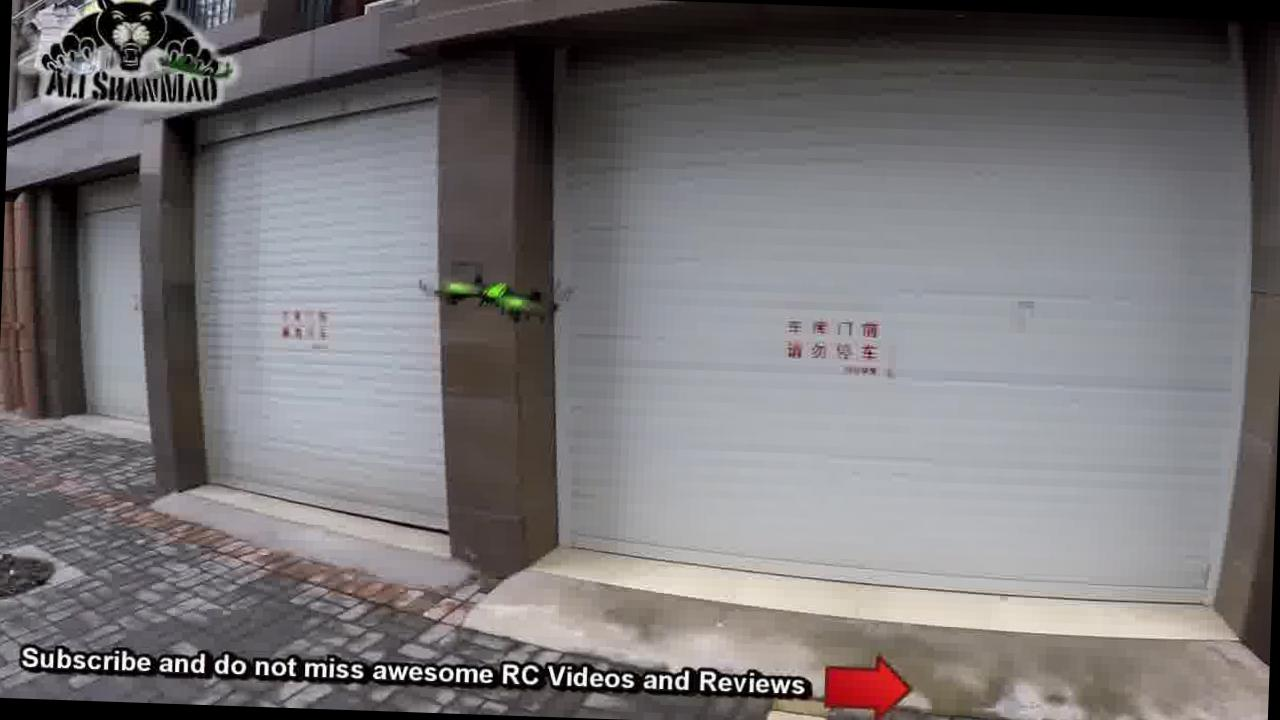drone: (404, 252, 598, 338)
